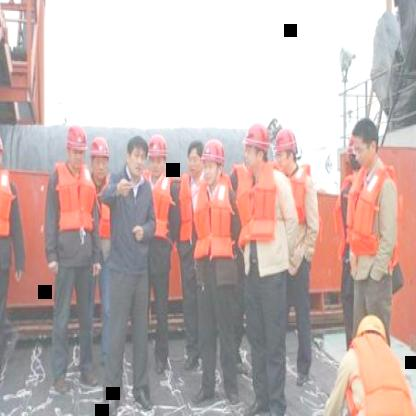head: (349, 115, 380, 171), (125, 130, 148, 178), (185, 139, 205, 179)
helmet: (354, 308, 389, 360), (242, 116, 270, 174), (202, 136, 228, 188), (274, 124, 300, 174), (64, 119, 88, 172), (89, 133, 111, 185), (148, 130, 168, 180), (0, 124, 8, 181)
